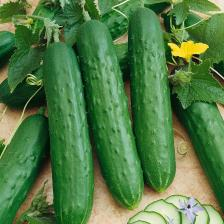cucumber: (76, 19, 144, 210), (41, 41, 94, 224), (127, 7, 177, 193)
